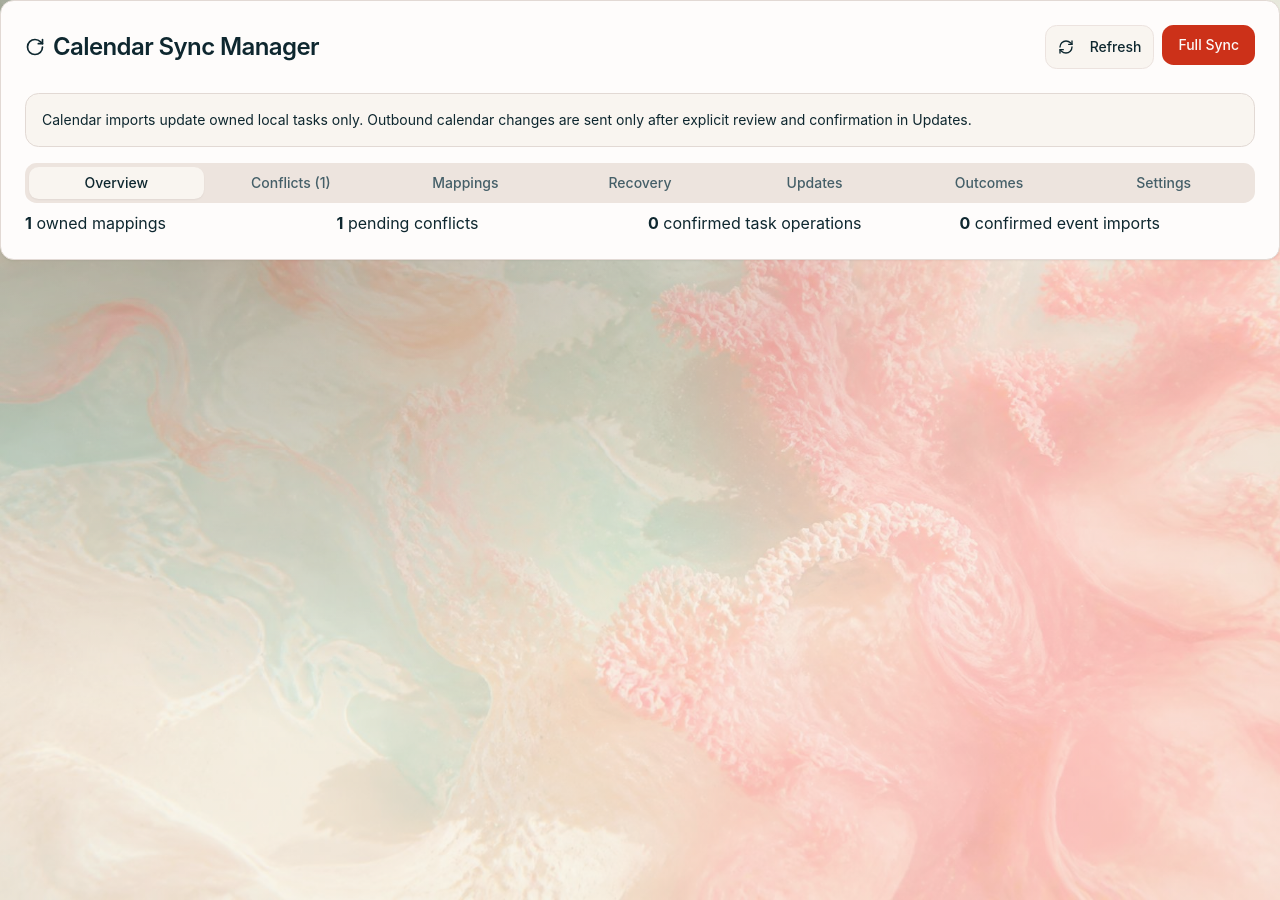
Test case: CalendarSyncPanel owner and truthful outcome lifecycle › exposes the read-only saved-outcome inventory through a reachable tab without fetching on mount
The width and height of the screenshot is (1280, 900).
Press the mouse on the tab "Outcomes" at point(989, 183), box [902,167,1076,199]
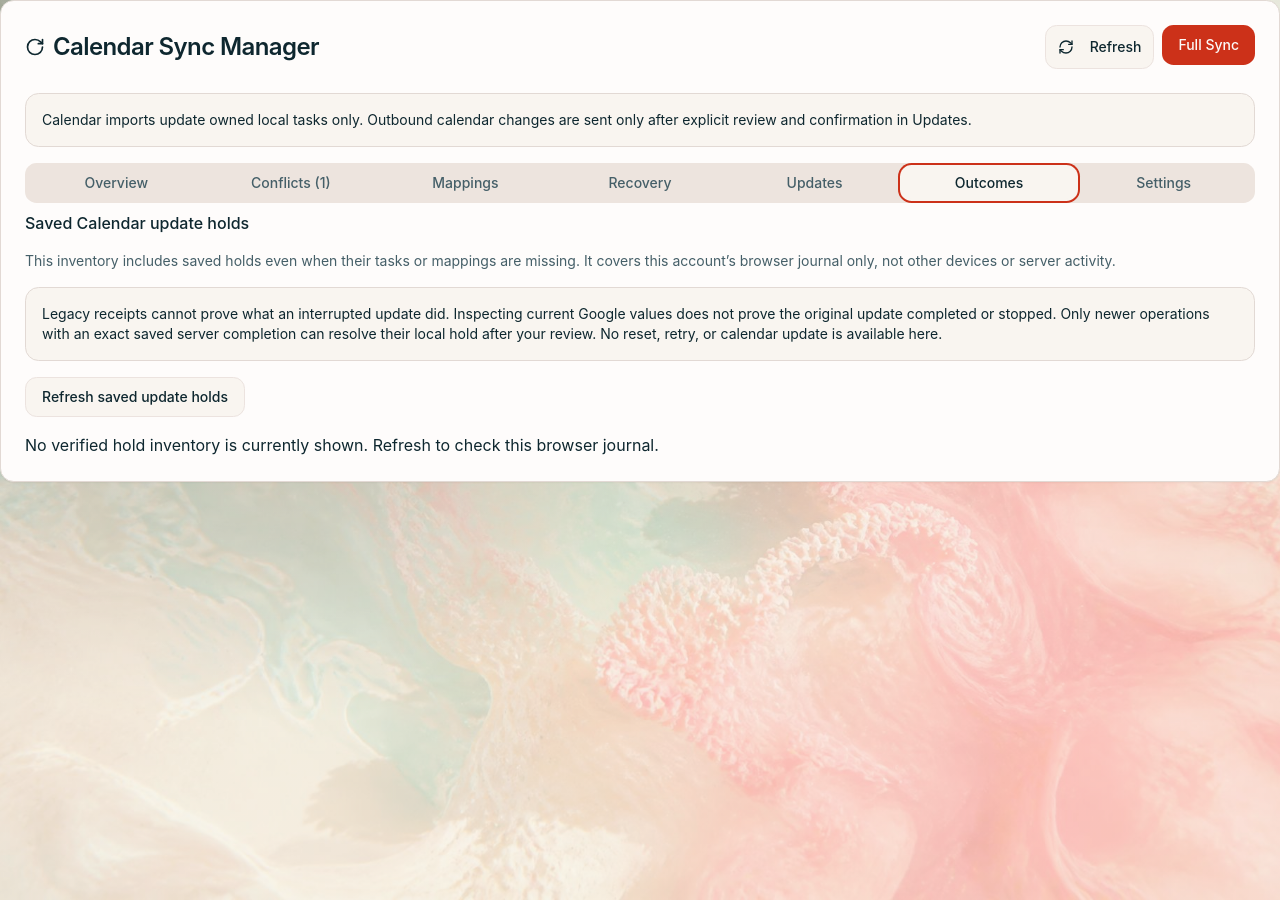
Expected: the heading "Saved Calendar update holds" is shown, [25,213,249,233]
Expected: the button "Refresh saved update holds" is enabled, [25,377,245,417]
Expected: the text "No verified hold inventory is currently shown" is shown, [25,435,659,455]
